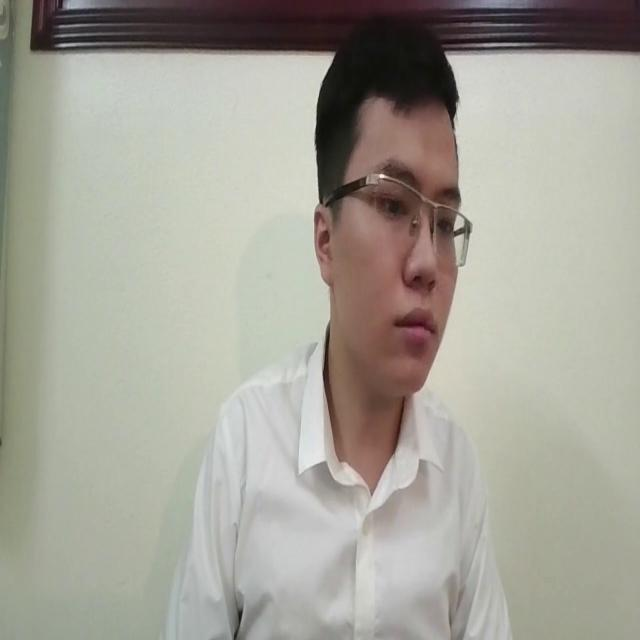student: (160, 19, 518, 640)
